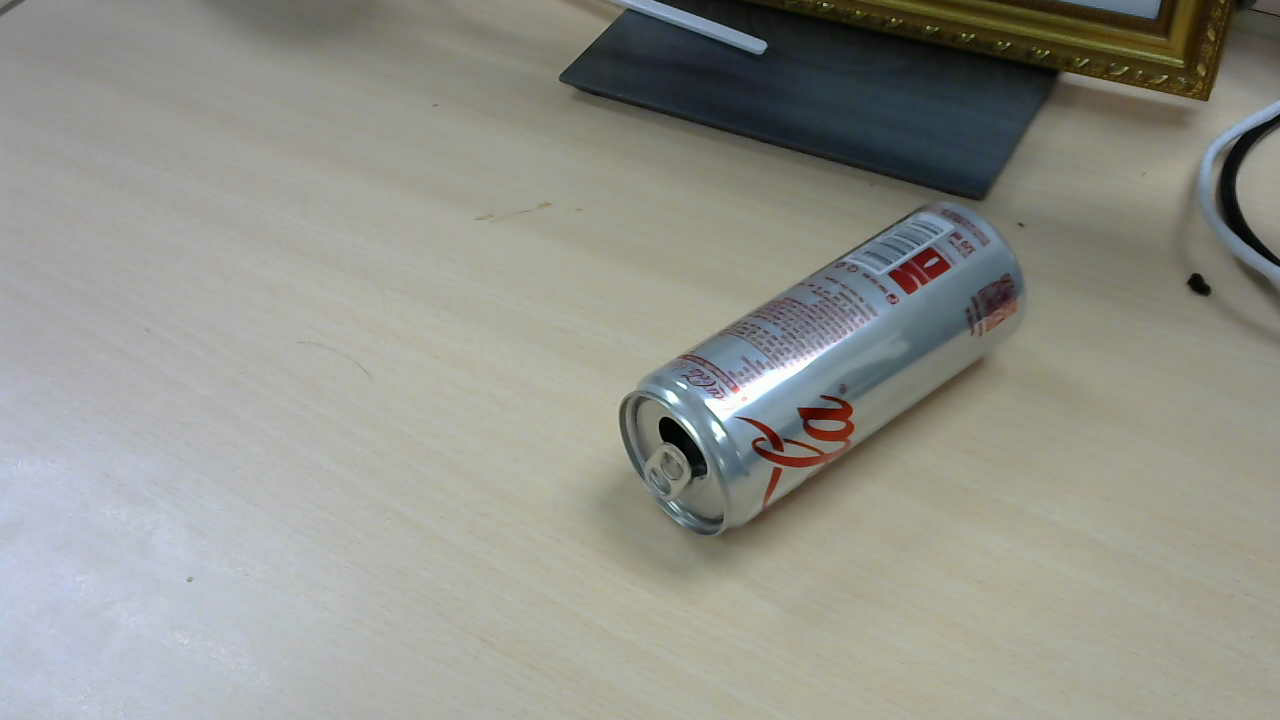Coca_Cola: (625, 198, 1033, 545)
